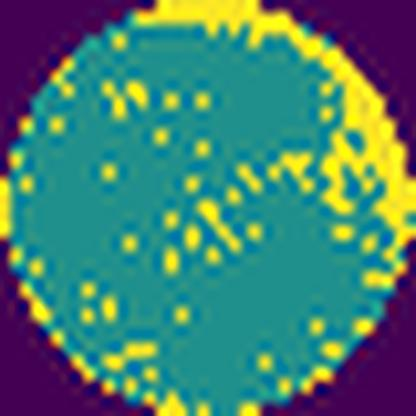Edge-Loc: (125, 0, 415, 267)
